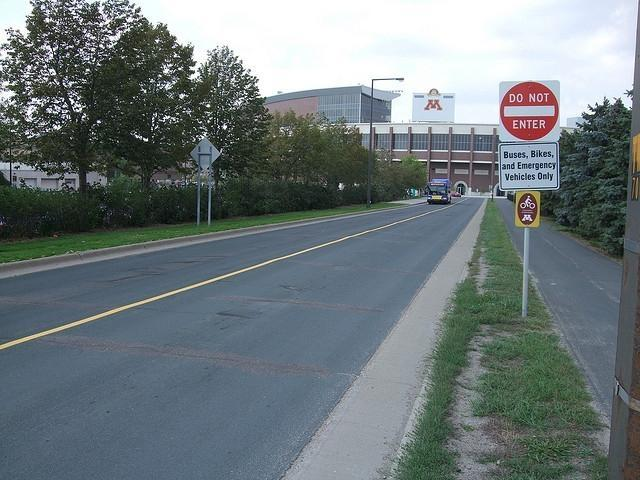bus: (426, 179, 451, 202)
